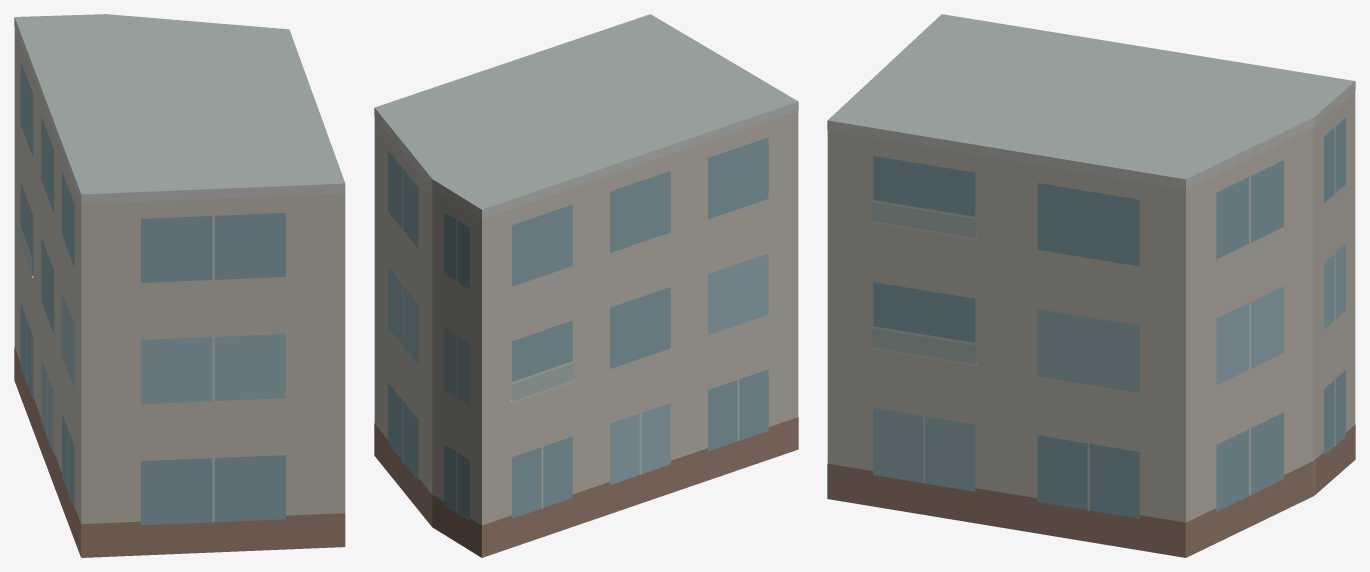
The model's file is survey-upis-32489837.glb.
The picture shows the model from 3 angles, left to right: view 1: azimuth 30°, elevation 25°; view 2: azimuth 150°, elevation 25°; view 3: azimuth 270°, elevation 25°; orthographic projection. The views are drawn at different scales.
Parts seen in each view (by area): view 1: survey-upis-32489837.tmp; view 2: survey-upis-32489837.tmp; view 3: survey-upis-32489837.tmp.
Boxes of the visible parts, x1,y1,x2,y2 form: survey-upis-32489837.tmp: [14, 14, 345, 557]; survey-upis-32489837.tmp: [374, 14, 798, 557]; survey-upis-32489837.tmp: [827, 14, 1355, 557].
Size of the model in its own units: 8.7 by 9.27 by 11.73.
